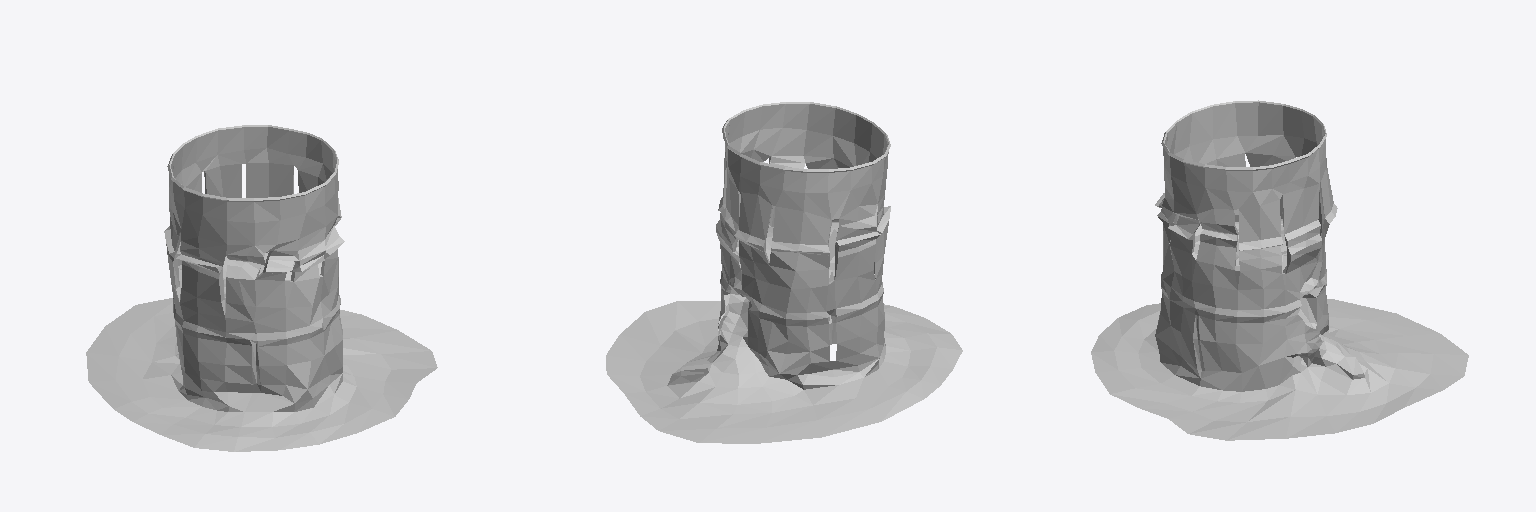
File: Barrel.obj
The picture shows the model from 3 angles: view 1: azimuth 30°, elevation 25°; view 2: azimuth 150°, elevation 25°; view 3: azimuth 270°, elevation 25°; orthographic projection.
Parts seen in each view (by area): view 1: Plane_Material_0; view 2: Plane_Material_0; view 3: Plane_Material_0.
Part boxes in pixels (left/top/right/bottom): Plane_Material_0: left=86, top=125, right=437, bottom=451; Plane_Material_0: left=606, top=102, right=962, bottom=443; Plane_Material_0: left=1091, top=100, right=1468, bottom=440.
Bounding box in the file's own units: 1.85 × 1.35 × 2.02.